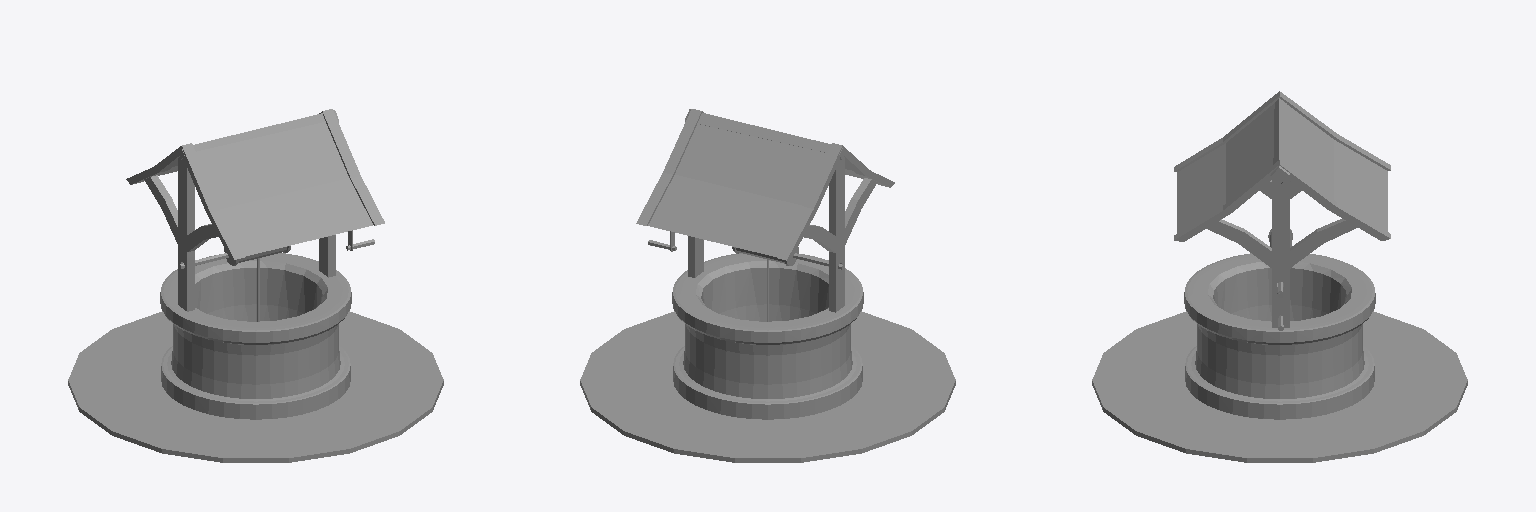
The model's file is well.obj.
3 renders of one model, left to right at view 1: azimuth 30°, elevation 25°; view 2: azimuth 150°, elevation 25°; view 3: azimuth 270°, elevation 25°, orthographic.
Parts seen in each view (by area): view 1: Cylinder.000, Cylinder.002, Cylinder.001; view 2: Cylinder.000, Cylinder.002, Cylinder.001; view 3: Cylinder.000, Cylinder.002, Cylinder.001.
Boxes of the visible parts, box(x1,y1,x2,y2) form: Cylinder.000: box(68, 253, 443, 462); Cylinder.002: box(126, 109, 384, 259); Cylinder.001: box(144, 157, 374, 321); Cylinder.000: box(580, 253, 955, 462); Cylinder.002: box(636, 109, 894, 260); Cylinder.001: box(648, 157, 877, 321); Cylinder.000: box(1092, 253, 1467, 462); Cylinder.002: box(1174, 91, 1390, 241); Cylinder.001: box(1207, 178, 1357, 330).
Size of the model in its own units: 3.52 by 2.7 by 3.57.